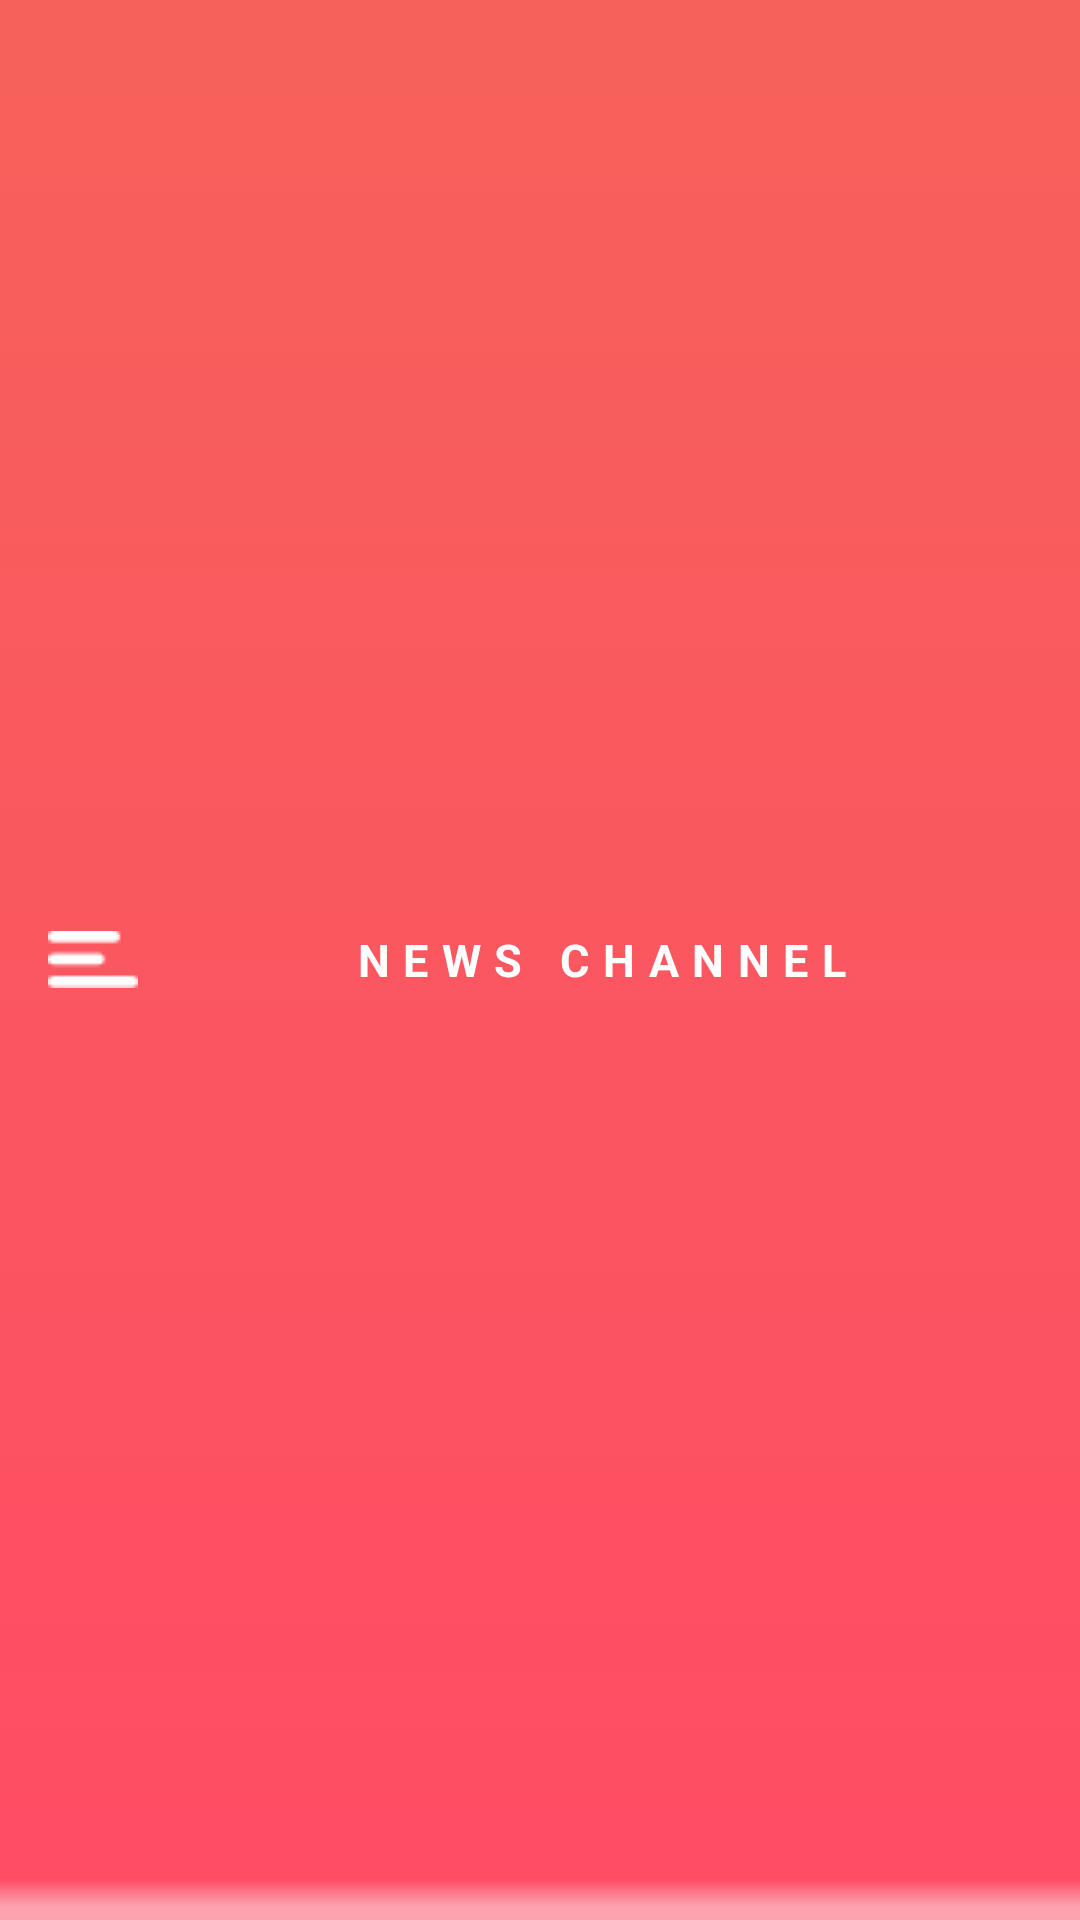

Named icons in this screenshot (1080 × 1920) and their centers, point (x, y):
menu: point (93, 959)
